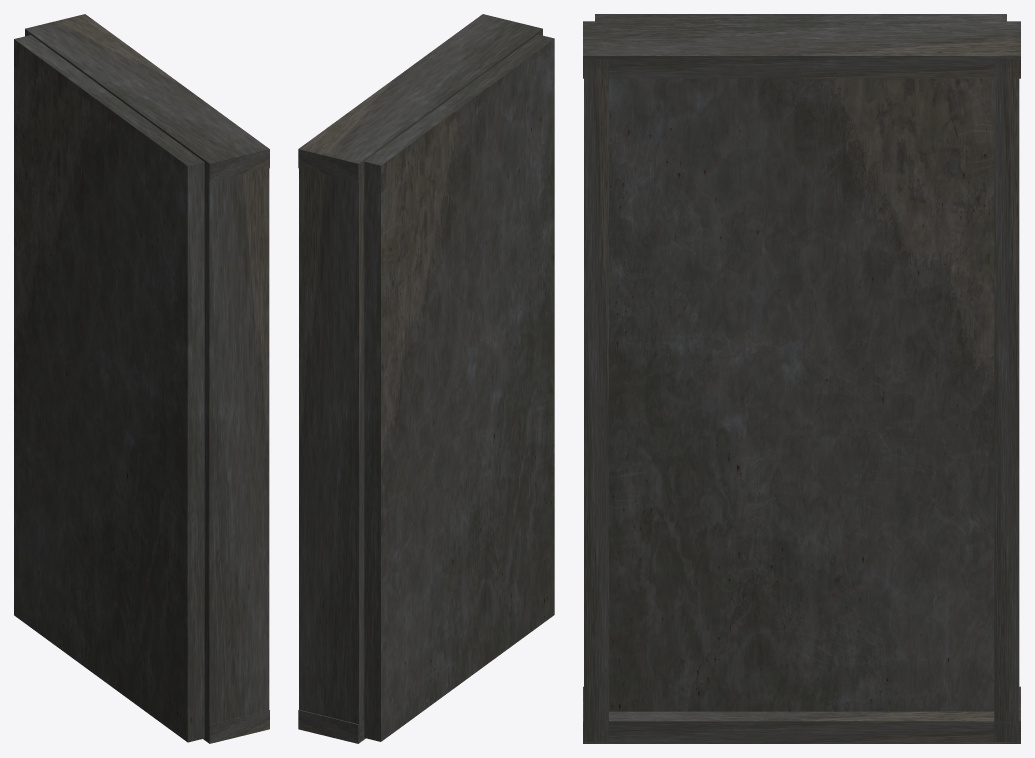
The model's file is Wall_Lock_Basic.glb.
The picture shows the model from 3 angles, left to right: view 1: azimuth 30°, elevation 25°; view 2: azimuth 150°, elevation 25°; view 3: azimuth 270°, elevation 25°; orthographic projection. The views are drawn at different scales.
Parts seen in each view (by area): view 1: Cube, Cube.002, Cube.004, Cube.005; view 2: Cube, Cube.003, Cube.004, Cube.005; view 3: Cube, Cube.004, Cube.003, Cube.002, Cube.005.
Part boxes in pixels (x1=…): Cube: x1=14, y1=35, x2=204, y2=742; Cube.002: x1=204, y1=162, x2=269, y2=741; Cube.004: x1=25, y1=14, x2=269, y2=182; Cube.005: x1=203, y1=710, x2=269, y2=743; Cube: x1=364, y1=34, x2=554, y2=741; Cube.003: x1=299, y1=162, x2=364, y2=741; Cube.004: x1=298, y1=14, x2=542, y2=182; Cube.005: x1=298, y1=709, x2=365, y2=743; Cube: x1=595, y1=14, x2=1006, y2=711; Cube.004: x1=583, y1=21, x2=1020, y2=78; Cube.003: x1=994, y1=58, x2=1019, y2=741; Cube.002: x1=584, y1=58, x2=608, y2=741; Cube.005: x1=583, y1=686, x2=1020, y2=743.
Size of the model in its own units: 0.0457 by 0.3291 by 0.1899.
Materials: 5 (5 with a texture image).
